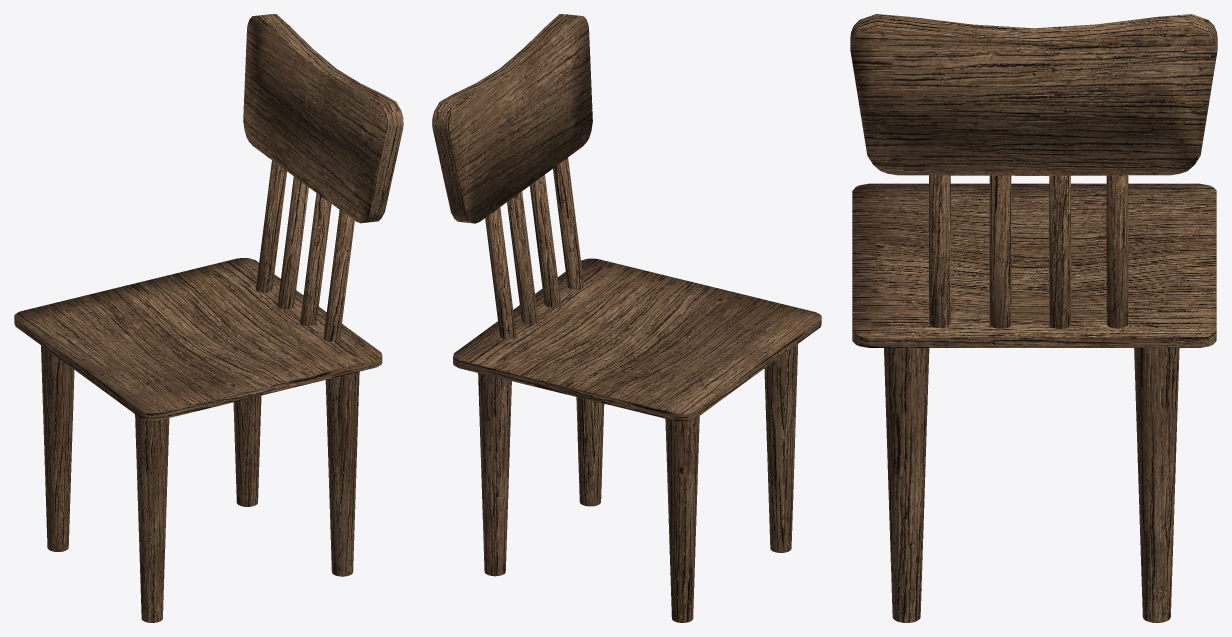
The model's file is Chair.fbx.
3 renders of one model, left to right at view 1: azimuth 30°, elevation 25°; view 2: azimuth 150°, elevation 25°; view 3: azimuth 270°, elevation 25°, orthographic. The views are drawn at different scales.
Parts seen in each view (by area): view 1: Сhair; view 2: Сhair; view 3: Сhair.
Boxes of the visible parts, x1=… form: Сhair: x1=14, y1=14, x2=403, y2=622; Сhair: x1=432, y1=14, x2=821, y2=622; Сhair: x1=850, y1=14, x2=1217, y2=622.
Bounding box in the file's own units: 215 × 375 × 201.
